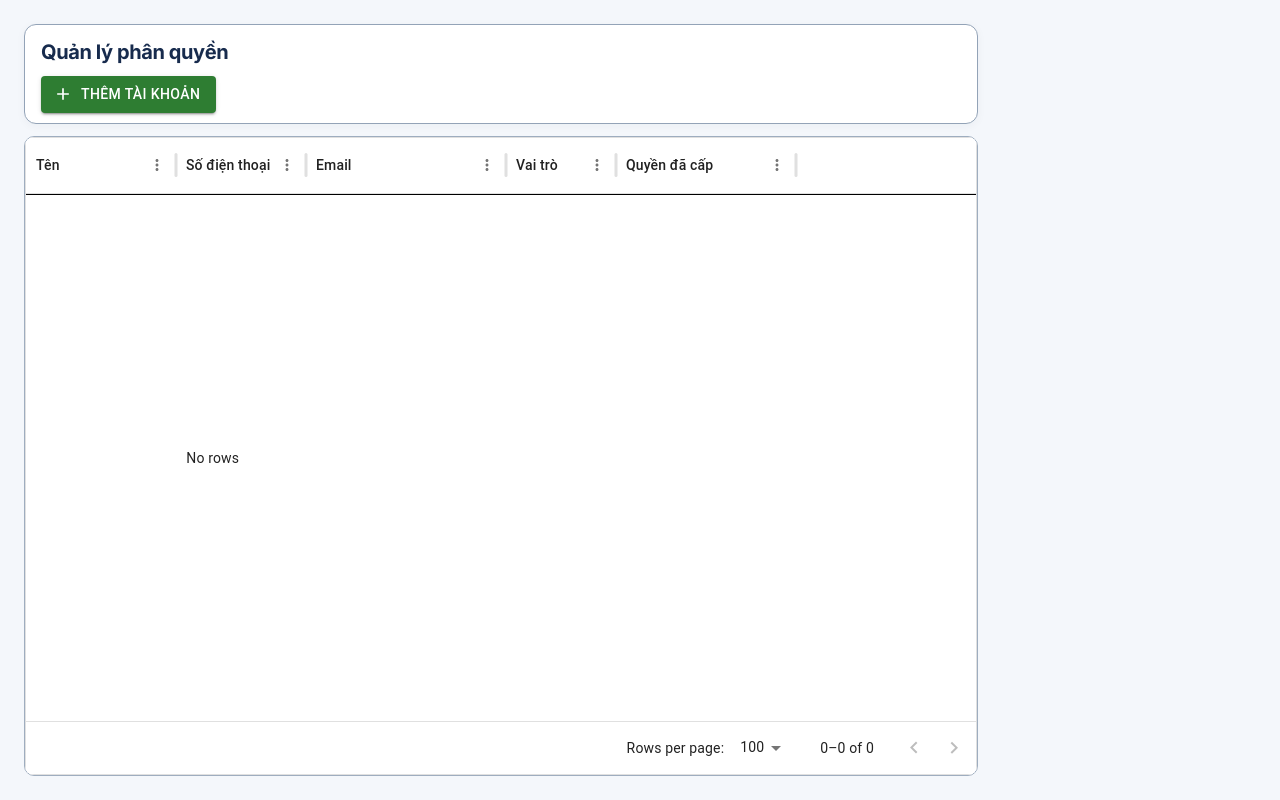
Test case: Account › selects and deselects all permissions for a module
Click the button "Thêm tài khoản". click: (129, 94)
box: 41,76 -> 216,112
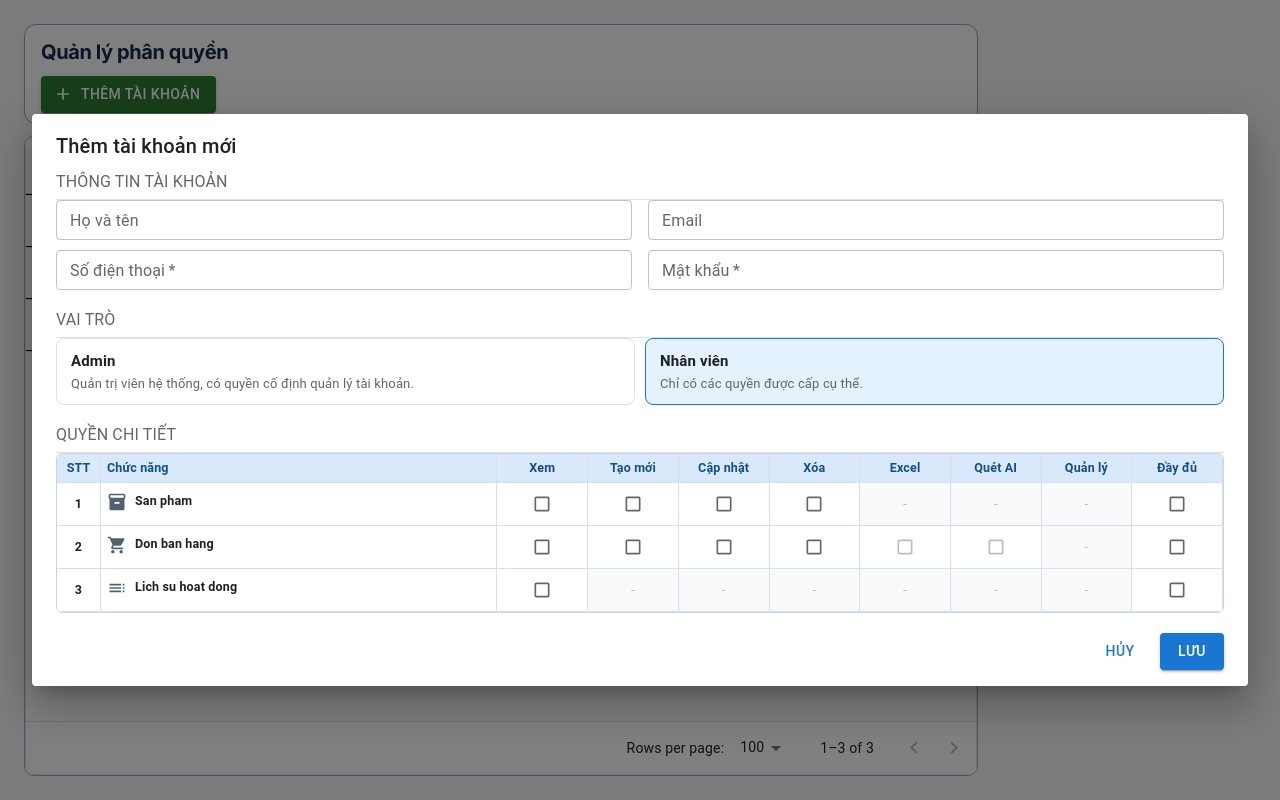
Now the text "San pham" is shown, box 135,493 -> 192,510
Click the checkbox named "San pham - Đầy đủ". click: (1177, 504)
box: 1167,494 -> 1187,514
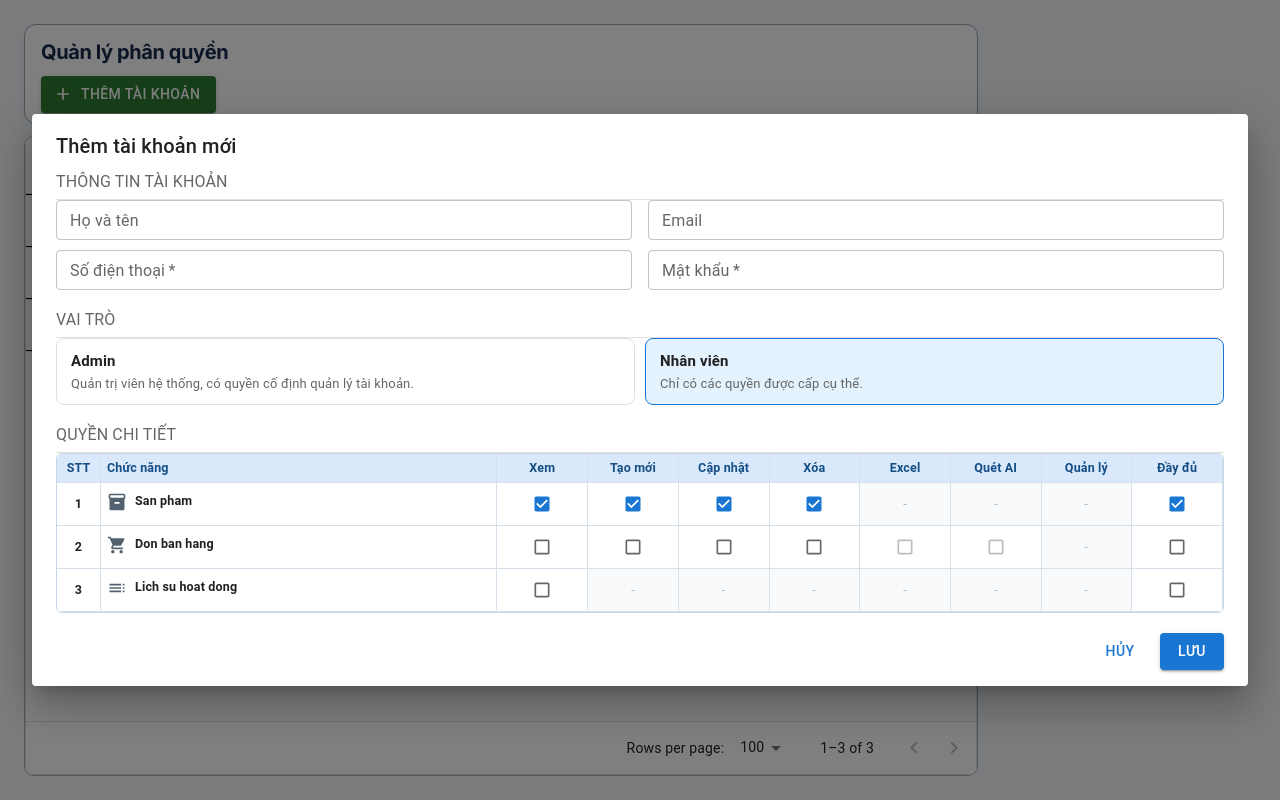
Now the checkbox named "San pham - Xem" is checked, box 532,494 -> 552,514
Click the checkbox named "San pham - Đầy đủ". click: (1177, 504)
box: 1167,494 -> 1187,514
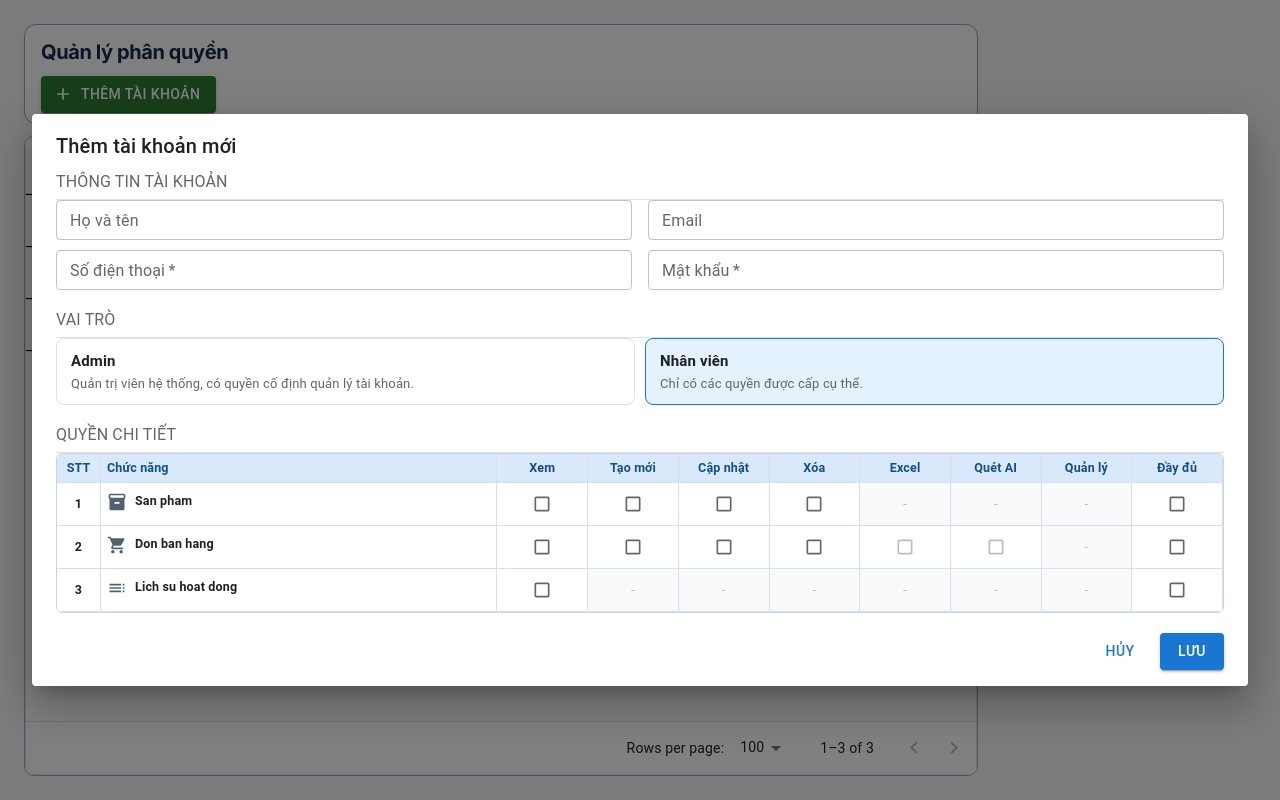
Now the checkbox named "San pham - Xem" is not checked, box 532,494 -> 552,514
